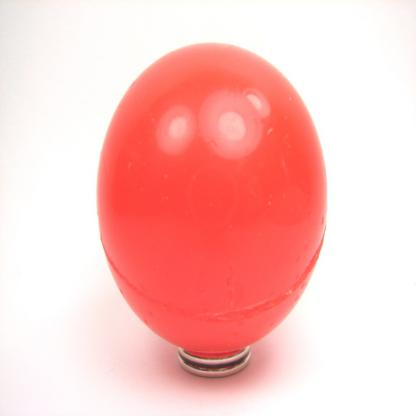Ball: (96, 42, 325, 352)
